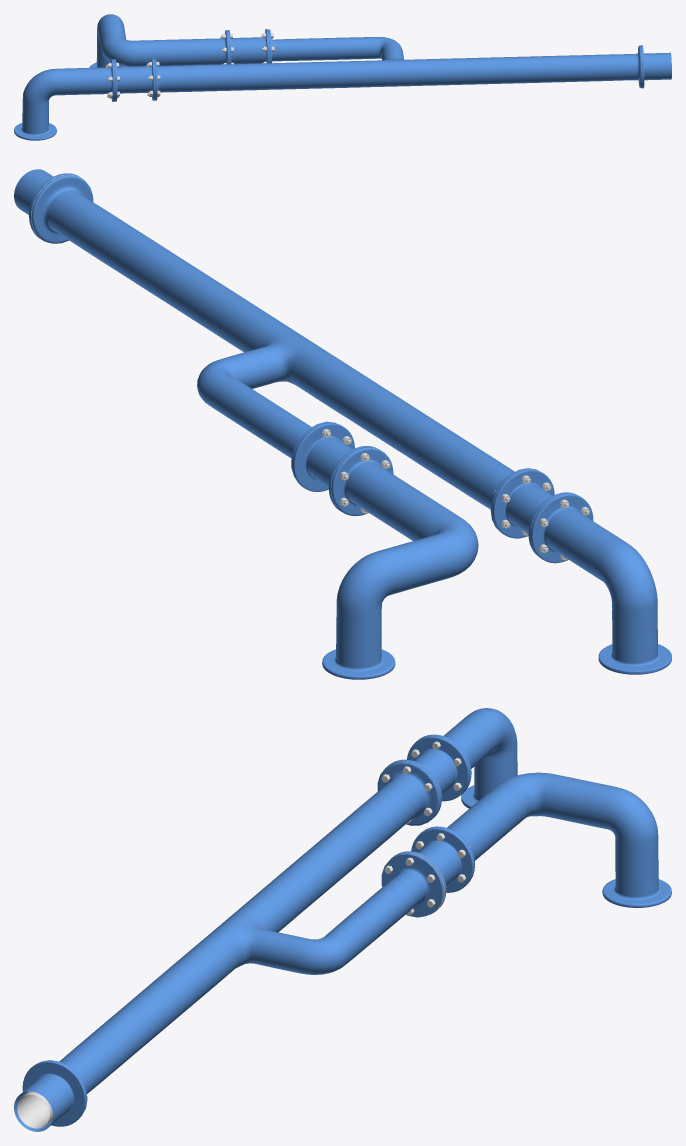
3 views of the same model, one above another, from view 1: azimuth 30°, elevation 25°; view 2: azimuth 150°, elevation 25°; view 3: azimuth 270°, elevation 25° (orthographic). The views are drawn at different scales.
Parts seen in each view (by area): view 1: Retopo_02-13, Retopo_04-13, Retopo_04-12, Retopo_03-12, Retopo_03-13, Retopo_01-13; view 2: Retopo_02-13, Retopo_04-13, Retopo_04-12, Retopo_03-13, Retopo_03-12, Retopo_01-13; view 3: Retopo_02-13, Retopo_04-13, Retopo_04-12, Retopo_01-13, Retopo_03-13, Retopo_03-12.
Part boxes in pixels (x1,y1,x2,y2): Retopo_02-13: (154,29,642,100); Retopo_04-13: (89,14,229,67); Retopo_04-12: (14,59,115,140); Retopo_03-12: (113,58,155,101); Retopo_03-13: (227,29,269,64); Retopo_01-13: (640,45,671,88); Retopo_02-13: (31,175,537,533); Retopo_04-13: (322,447,478,679); Retopo_04-12: (530,493,671,674); Retopo_03-13: (292,422,376,512); Retopo_03-12: (492,469,576,555); Retopo_01-13: (14,169,86,242); Retopo_02-13: (41,761,443,1109); Retopo_04-13: (420,772,671,907); Retopo_04-12: (415,708,517,808); Retopo_01-13: (14,1060,86,1131); Retopo_03-13: (392,827,474,914); Retopo_03-12: (387,736,469,819).
Bounding box in the file's own units: 423 × 79.29 × 625.
